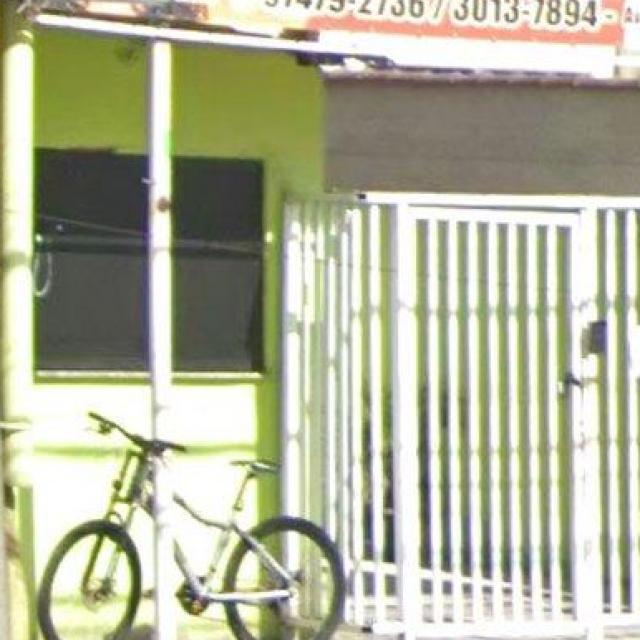bicycle: (39, 416, 185, 640), (176, 464, 348, 640)
